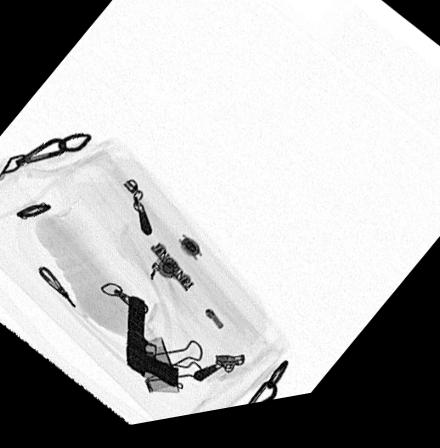Gun: (125, 301, 180, 394)
